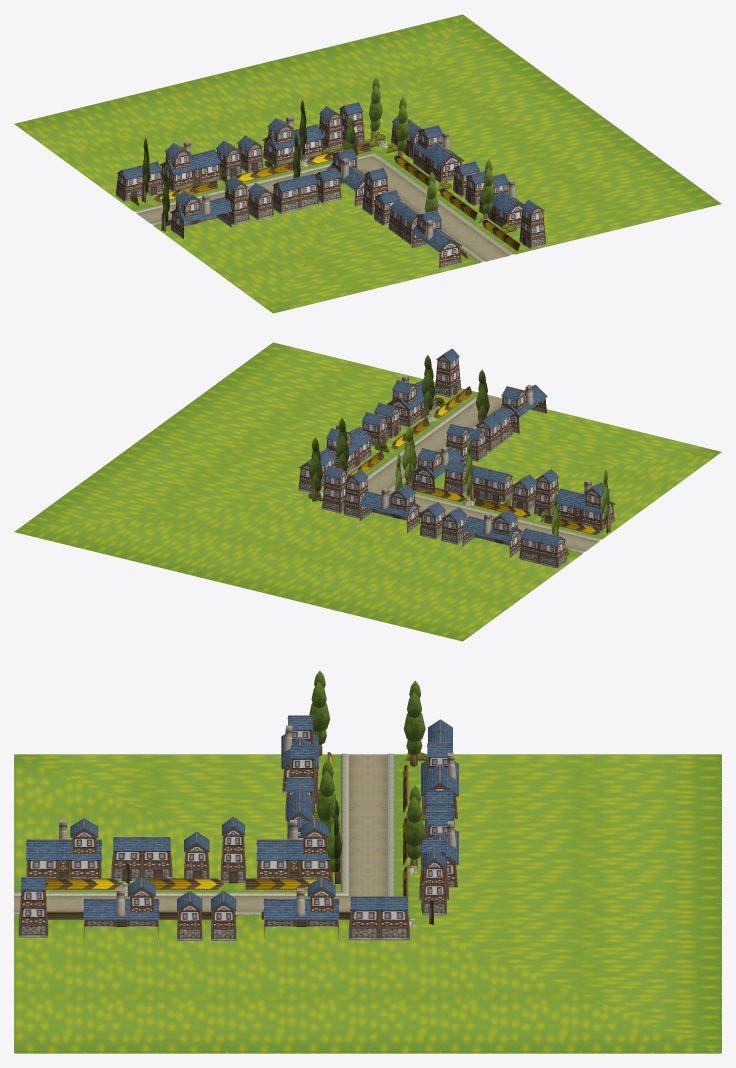
File: VillageRoad02_Left.FBX
3 views of the same model, one above another, from view 1: azimuth 30°, elevation 25°; view 2: azimuth 150°, elevation 25°; view 3: azimuth 270°, elevation 25° (orthographic). The views are drawn at different scales.
Parts seen in each view (by area): view 1: Road, House (×23), Tree (×3), Fence; view 2: Road, House (×23), Tree (×5); view 3: Road, House (×18), Tree (×5), Fence (×3).
Part boxes in pixels (left/top/right/bottom): Road: left=14, top=14, right=721, bottom=313; House (×23): left=116, top=102, right=546, bottom=268; Tree (×3): left=369, top=77, right=495, bottom=218; Fence: left=235, top=161, right=293, bottom=181; Road: left=14, top=342, right=721, bottom=641; House (×23): left=298, top=348, right=615, bottom=568; Tree (×5): left=309, top=355, right=489, bottom=501; Road: left=14, top=753, right=721, bottom=1053; House (×18): left=18, top=715, right=458, bottom=940; Tree (×5): left=309, top=670, right=425, bottom=883; Fence (×3): left=45, top=878, right=333, bottom=889.
Size of the model in its own units: 10000 by 1396 by 10000.
